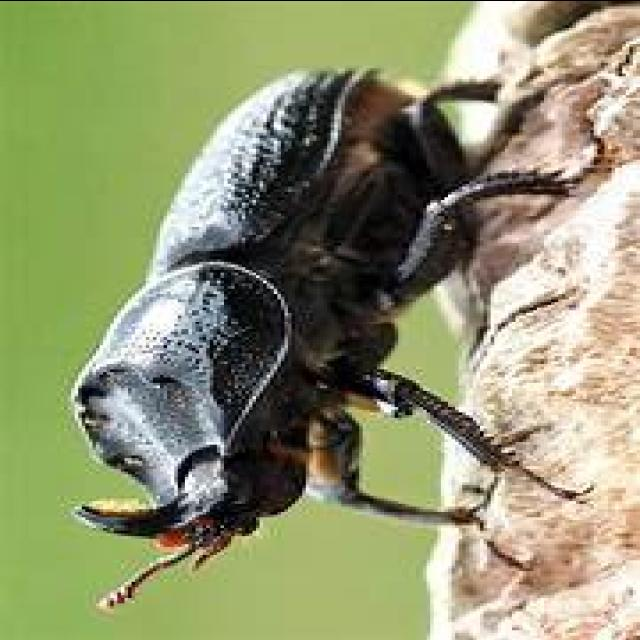Rhino-beetle: (42, 57, 544, 577)
